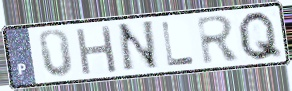0: (38, 28, 75, 80)
H: (74, 23, 120, 78)
L: (160, 20, 197, 68)
N: (116, 18, 162, 74)
Q: (236, 10, 285, 63)
R: (195, 13, 243, 67)
